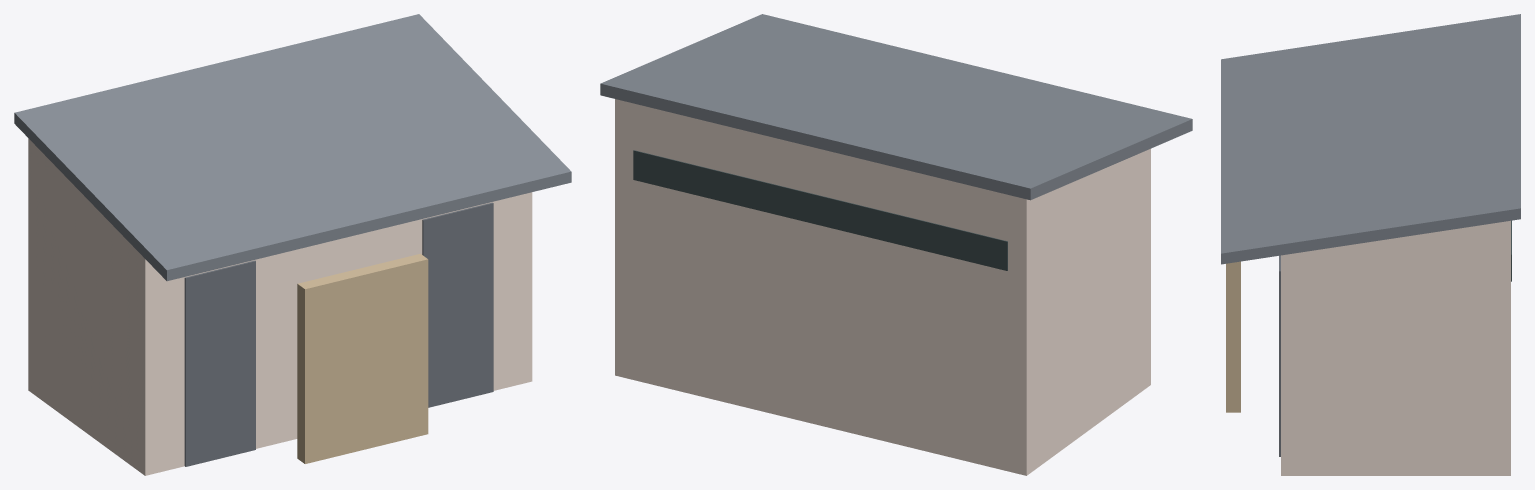
File: site_feature1.fbx
The picture shows the model from 3 angles, left to right: view 1: azimuth 30°, elevation 25°; view 2: azimuth 150°, elevation 25°; view 3: azimuth 270°, elevation 25°; orthographic projection. The views are drawn at different scales.
Visible parts, largest first — view 1: a3008/0/site_feature1; view 2: a3008/0/site_feature1; view 3: a3008/0/site_feature1.
Boxes of the visible parts, bbox=[...] form: a3008/0/site_feature1: bbox=[14, 14, 571, 475]; a3008/0/site_feature1: bbox=[600, 14, 1192, 475]; a3008/0/site_feature1: bbox=[1221, 14, 1520, 475].
Size of the model in its own units: 4.6 by 3 by 3.
